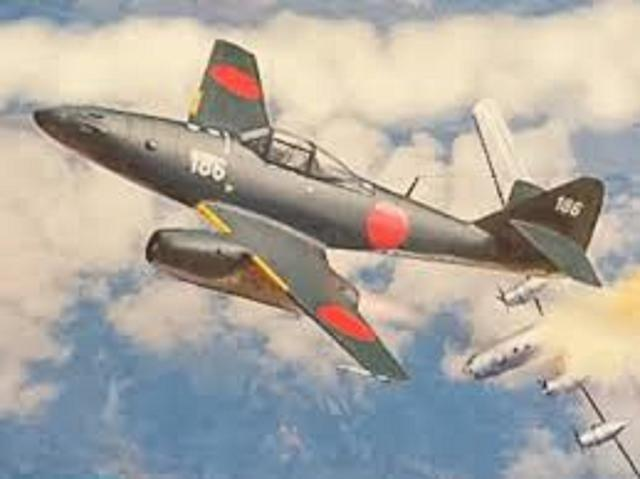airplane: (27, 32, 606, 381), (456, 80, 640, 478)
